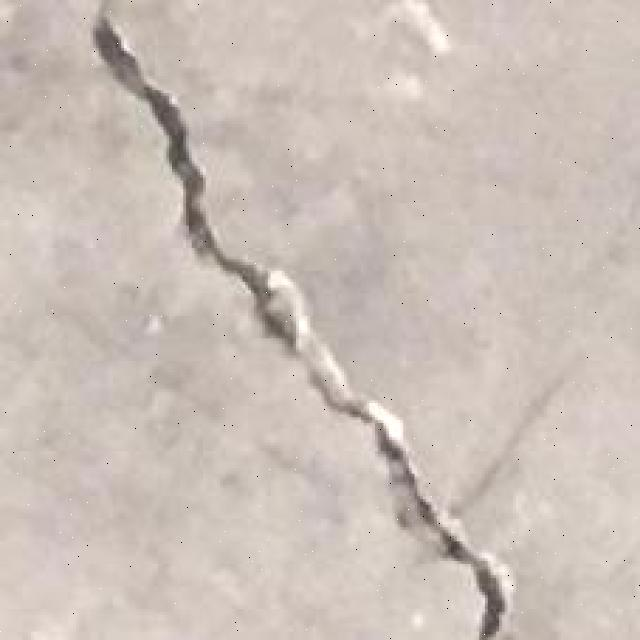crack: (95, 11, 285, 304), (364, 0, 461, 95)
